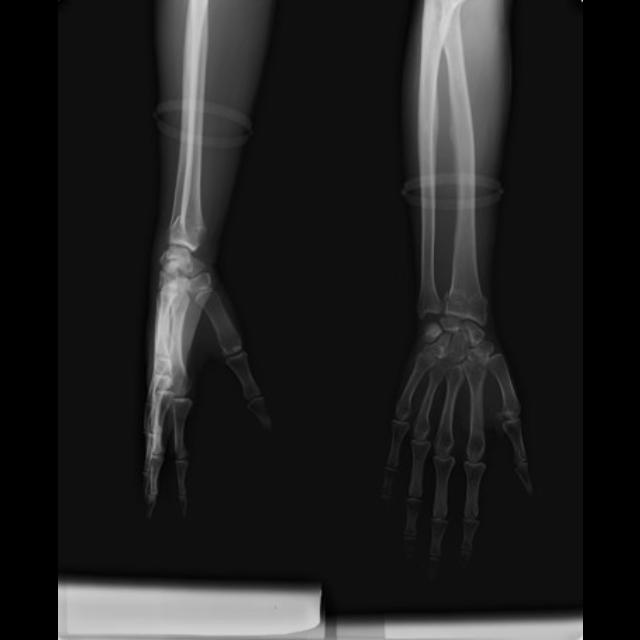fractured: (161, 204, 211, 254), (441, 277, 492, 316)
